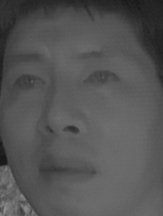eye: (81, 69, 124, 91), (9, 72, 46, 95)
mouth: (37, 149, 98, 190)
